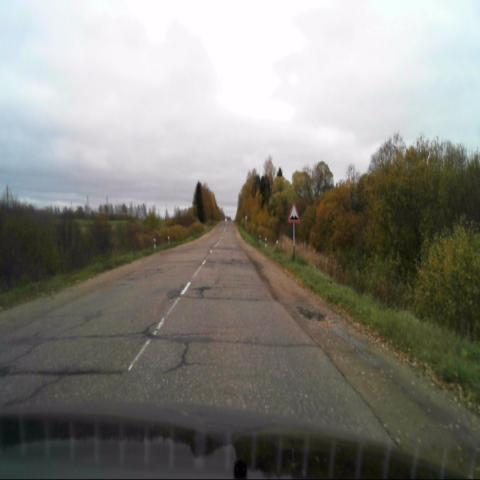1_16: (288, 202, 300, 223)
